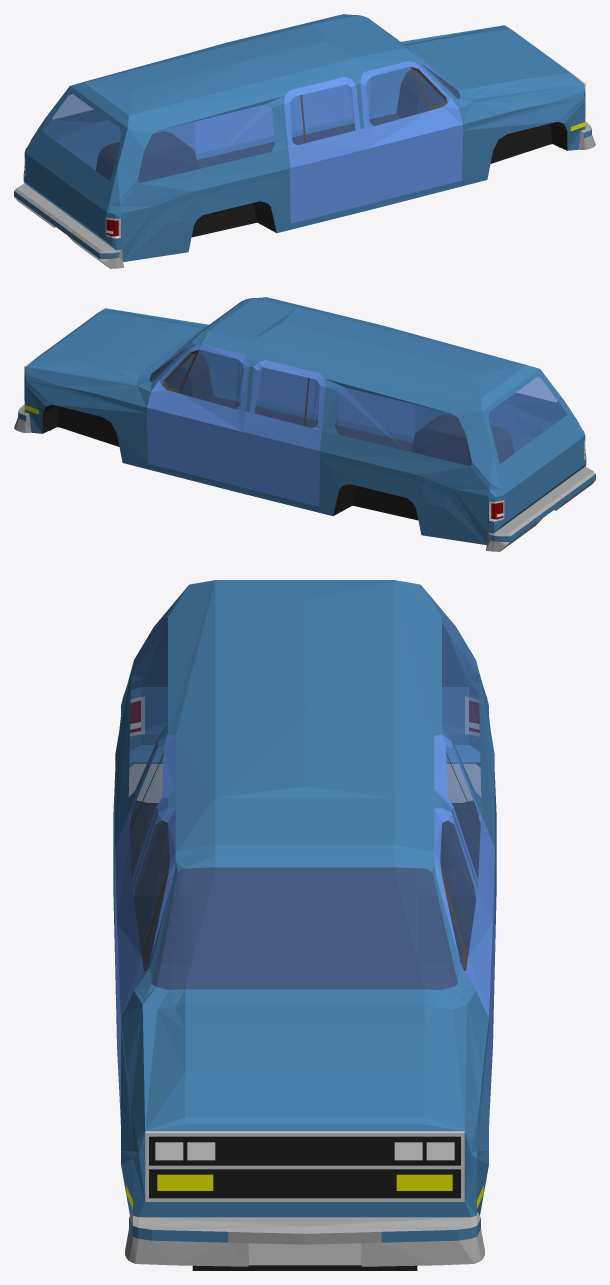
File: Cheban.fbx
3 views of the same model, one above another, from view 1: azimuth 30°, elevation 25°; view 2: azimuth 150°, elevation 25°; view 3: azimuth 270°, elevation 25° (orthographic). The views are drawn at different scales.
Parts seen in each view (by area): view 1: _(Loose Entity); view 2: _(Loose Entity); view 3: _(Loose Entity).
Part boxes in pixels (box(x1,y1,x2,y2)): _(Loose Entity): box(14, 14, 595, 268); _(Loose Entity): box(14, 297, 595, 551); _(Loose Entity): box(113, 580, 496, 1270).
Bounding box in the file's own units: 578 × 152 × 192.
